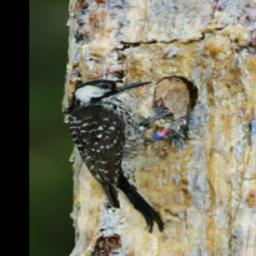Woodpecker: (66, 79, 187, 232)
